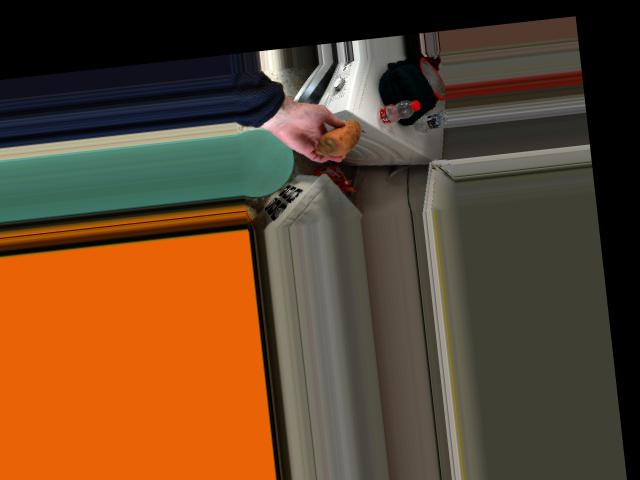sweet_potato: (319, 121, 363, 157)
